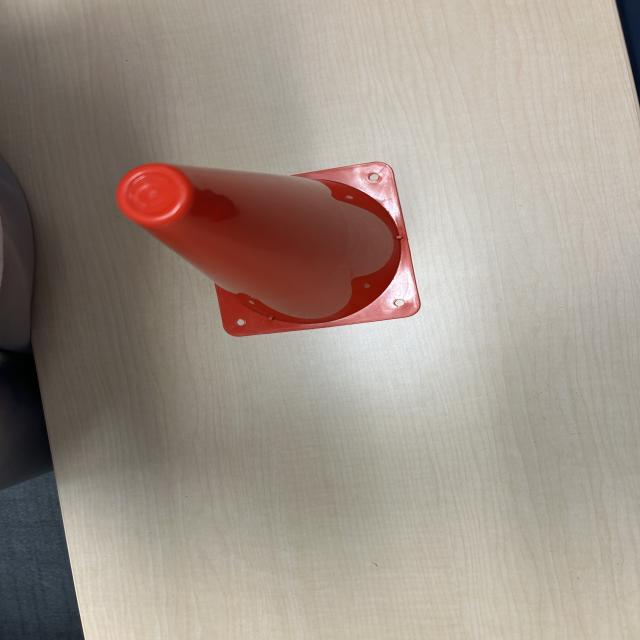orange cone: (108, 157, 435, 339)
